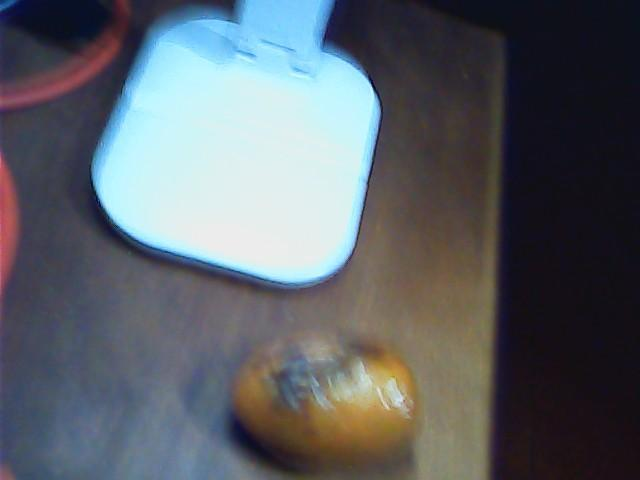defectuoso: (232, 329, 417, 456)
